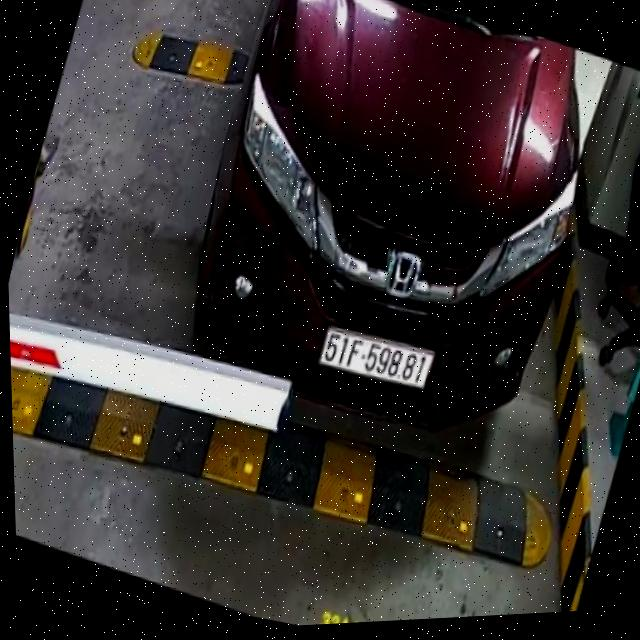car: (156, 0, 635, 476)
plate: (307, 313, 442, 407)
